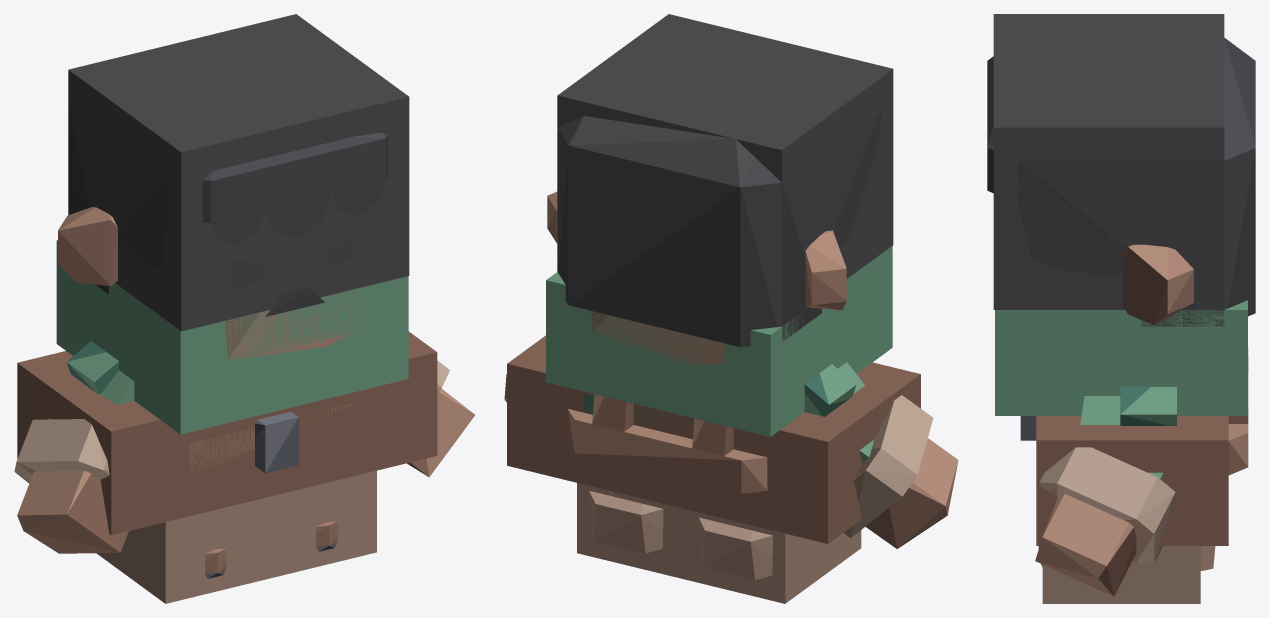
Rendered from person.male-f.glb.
3 views of the same model, side by side, from view 1: azimuth 30°, elevation 25°; view 2: azimuth 150°, elevation 25°; view 3: azimuth 270°, elevation 25° (orthographic). The views are drawn at different scales.
Visible parts, largest first — view 1: far, near; view 2: near, far; view 3: far, near.
Part boxes in pixels (<box>): far: <box>17,14,437,603</box>; near: <box>14,29,474,578</box>; near: <box>504,37,958,580</box>; far: <box>507,14,920,603</box>; far: <box>993,14,1247,603</box>; near: <box>987,27,1255,596</box>.
Size of the model in its own units: 1.68 by 1.7 by 0.861.
